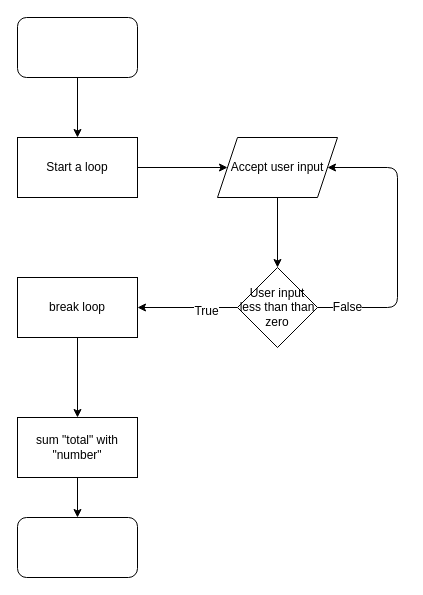
The diagram is 423 pixels wide and 595 high, and some of its shapes have lost their labels. The shapes that lost their labels are listed below. From the top down, each one's box as (x1, y1, x2, y2) in pixels, then its label:
(16, 16, 138, 78): Create a variable "total" and asign it the value of zero
(16, 516, 138, 578): Print out the "sum"
